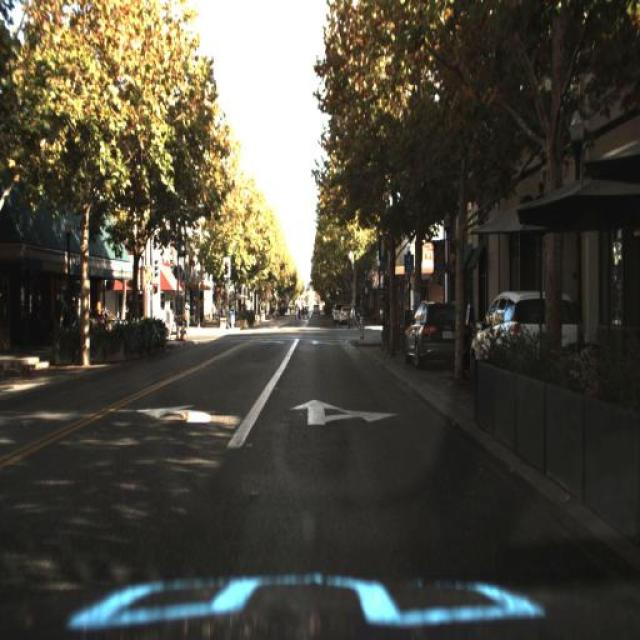car: (466, 277, 582, 365), (404, 296, 464, 369)
trafficLight: (182, 294, 194, 338), (179, 301, 191, 337), (348, 302, 359, 331)
trafficLight-RedLeft: (347, 243, 359, 275), (220, 254, 232, 280)
